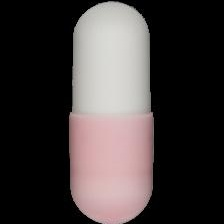69189-3742: (0, 0, 224, 224)
